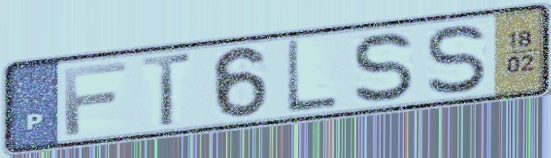6: (208, 43, 271, 122)
F: (60, 59, 130, 138)
L: (283, 37, 341, 117)
S: (424, 22, 490, 98), (351, 30, 417, 106)
T: (138, 50, 196, 131)
